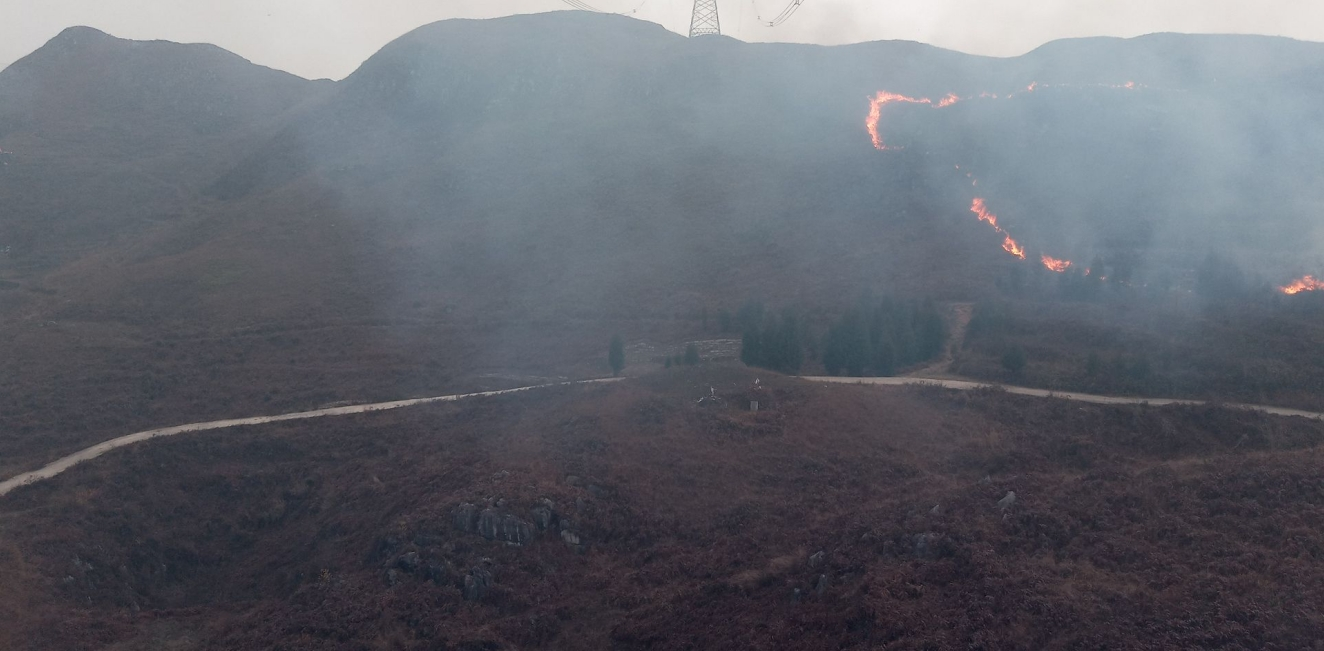山火: (864, 89, 957, 151), (968, 195, 1026, 260), (1274, 273, 1323, 295), (1038, 252, 1073, 273), (1096, 79, 1136, 90), (966, 90, 998, 100), (1026, 78, 1037, 91), (1137, 82, 1148, 90), (971, 177, 979, 187), (1097, 274, 1107, 281), (1083, 267, 1090, 276), (1006, 93, 1012, 99), (954, 163, 959, 170), (966, 170, 971, 177), (1042, 84, 1051, 87)
烟雾: (287, 0, 1323, 462)
